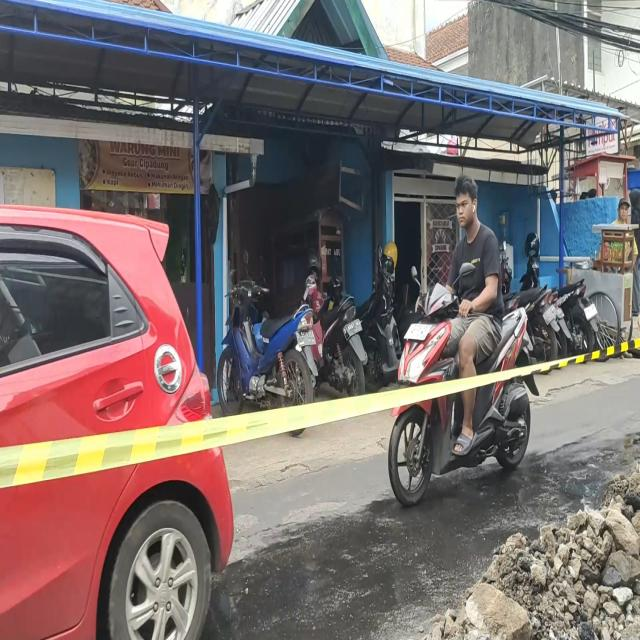no-helmet: (454, 178, 482, 229)
